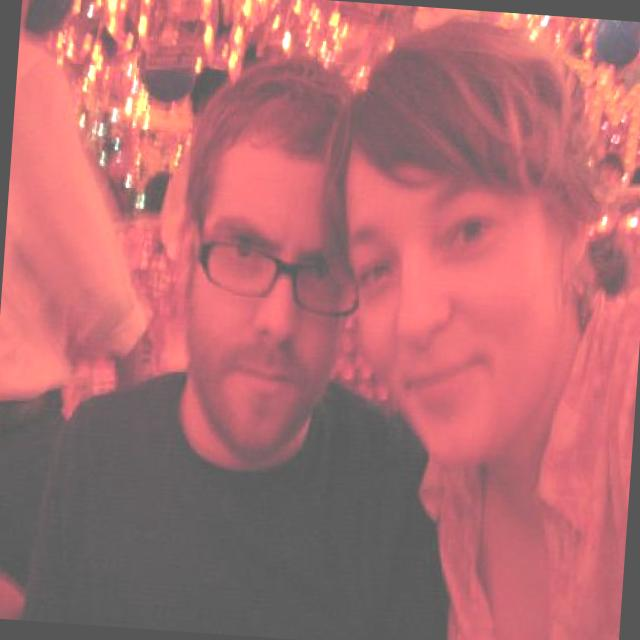Person: (0, 36, 489, 640), (292, 5, 640, 640), (0, 0, 172, 627)
